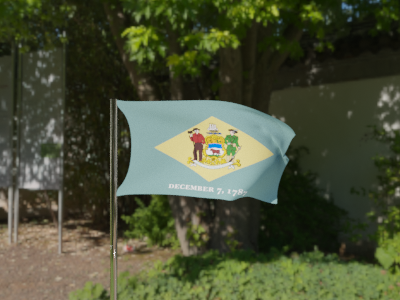Delaware flag: (116, 100, 296, 205)
